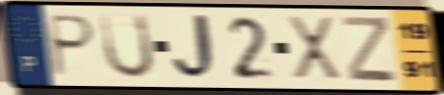2: (226, 14, 276, 82)
J: (170, 12, 223, 83)
P: (47, 13, 98, 79)
U: (97, 11, 157, 81)
X: (284, 14, 345, 85)
Z: (340, 14, 399, 85)
